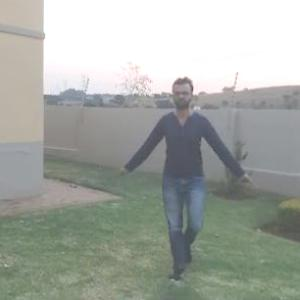land: (115, 66, 256, 284)
